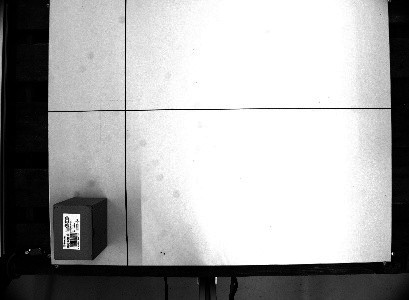b5: (51, 194, 109, 261)
